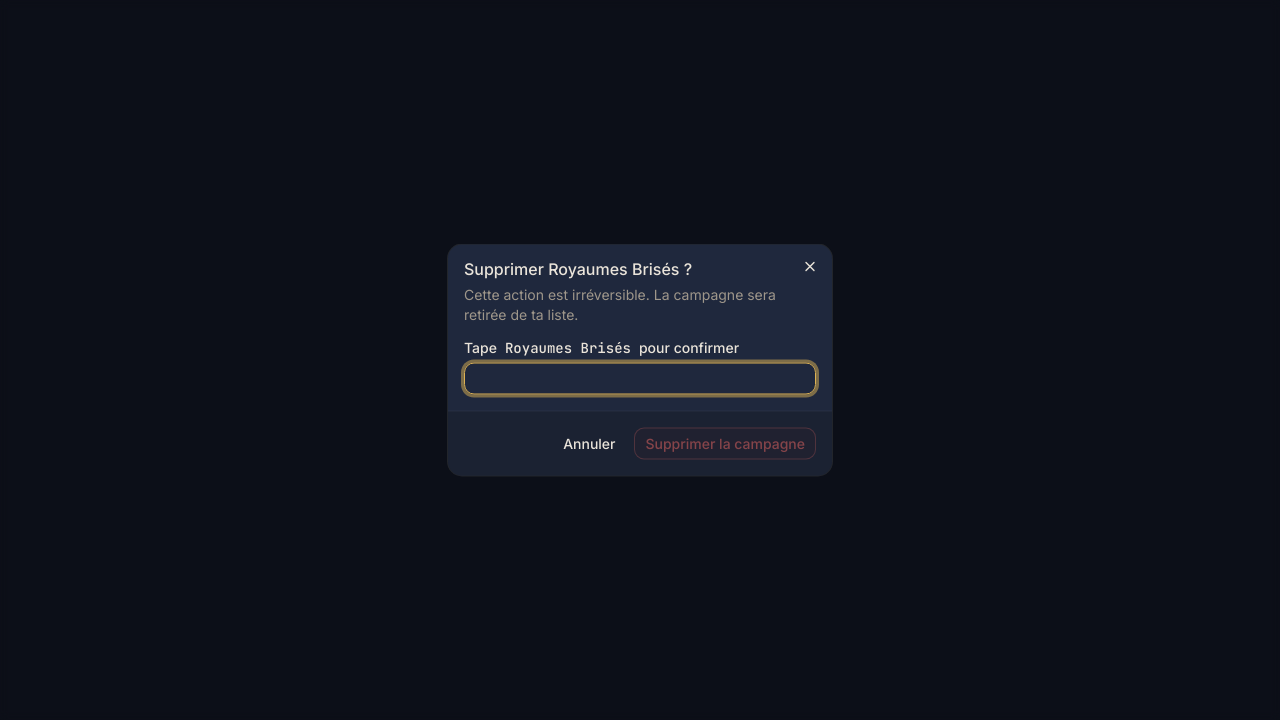
it: <CampaignDeleteConfirm> › trims surrounding whitespace before matching
This screenshot has width=1280, height=720.
Type "  Royaumes Brisés  " into the field labelled "Tape Royaumes Brisés pour confirmer". click: (640, 378)
box: [464,362,816,394]
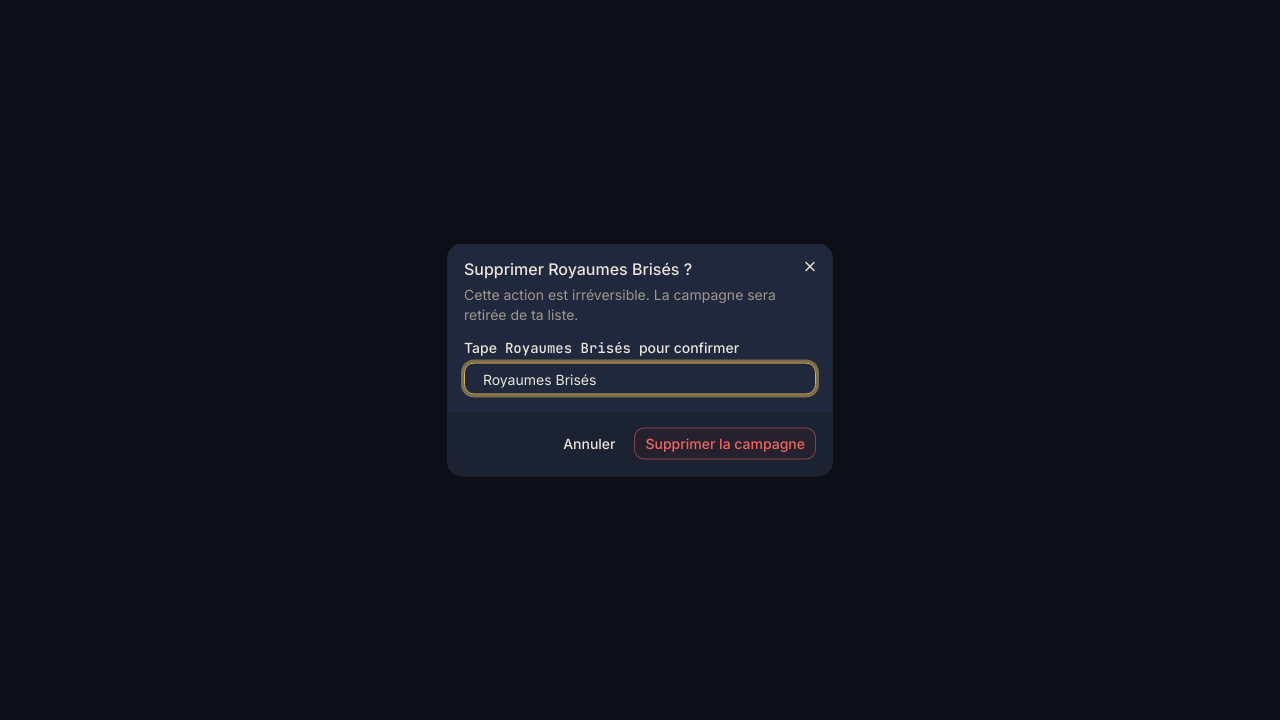
Check: the button "Supprimer la campagne" is enabled, box [634,428,816,460]
